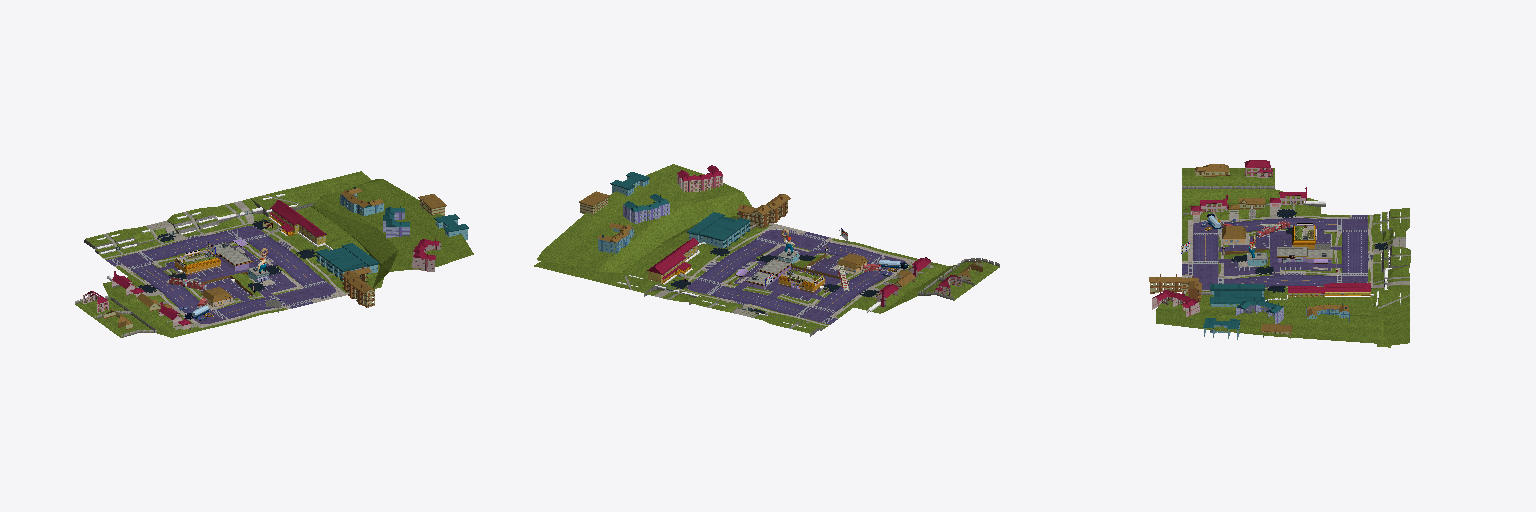
The picture shows the model from 3 angles: view 1: azimuth 30°, elevation 25°; view 2: azimuth 150°, elevation 25°; view 3: azimuth 270°, elevation 25°; orthographic projection.
Parts seen in each view (by area): view 1: common_gens82Shape_036, z2_common_trackShape_003, z2_common_trackShape_008, z2_common_trackShape_001, common_gens82Shape_061, common_gens82Shape_016, z2_common_trackShape_011, common_gens82Shape_060, z2_common_trackShape_009, common_gens82Shape_055, common_gens82Shape_049, common_gens82Shape_052 (+5 smaller); view 2: common_gens82Shape_036, z2_common_trackShape_003, z2_common_trackShape_008, z2_common_trackShape_001, common_gens82Shape_016, common_gens82Shape_061, z2_common_trackShape_011, common_gens82Shape_060, common_gens82Shape_049, common_gens82Shape_055, common_gens82Shape_052, z2_common_trackShape_007 (+3 smaller); view 3: common_gens82Shape_036, z2_common_trackShape_003, z2_common_trackShape_008, z2_common_trackShape_001, common_gens82Shape_016, common_gens82Shape_060, common_gens82Shape_061, z2_common_trackShape_011, z2_common_trackShape_009, common_gens82Shape_052, common_gens82Shape_055, common_gens82Shape_022 (+2 smaller).
Boxes of the visible parts, <box> form: common_gens82Shape_036: <box>75,171,473,337</box>; z2_common_trackShape_003: <box>99,206,383,337</box>; z2_common_trackShape_008: <box>131,231,324,318</box>; z2_common_trackShape_001: <box>115,226,335,323</box>; common_gens82Shape_061: <box>316,187,468,280</box>; common_gens82Shape_016: <box>106,188,446,327</box>; z2_common_trackShape_011: <box>103,222,348,327</box>; common_gens82Shape_060: <box>85,200,438,325</box>; z2_common_trackShape_009: <box>165,256,284,298</box>; common_gens82Shape_055: <box>104,200,444,329</box>; common_gens82Shape_049: <box>317,193,467,280</box>; common_gens82Shape_052: <box>83,242,440,329</box>; common_gens82Shape_036: <box>534,164,999,333</box>; z2_common_trackShape_003: <box>621,219,960,328</box>; z2_common_trackShape_008: <box>699,232,892,315</box>; z2_common_trackShape_001: <box>687,229,905,322</box>; common_gens82Shape_016: <box>579,191,982,292</box>; common_gens82Shape_061: <box>602,172,750,248</box>; z2_common_trackShape_011: <box>680,223,914,325</box>; common_gens82Shape_060: <box>647,165,960,297</box>; common_gens82Shape_049: <box>598,177,749,253</box>; common_gens82Shape_055: <box>580,197,982,289</box>; common_gens82Shape_052: <box>677,174,961,304</box>; z2_common_trackShape_007: <box>697,229,893,323</box>; common_gens82Shape_036: <box>1156,168,1410,347</box>; z2_common_trackShape_003: <box>1182,189,1383,315</box>; z2_common_trackShape_008: <box>1182,218,1367,286</box>; z2_common_trackShape_001: <box>1193,219,1367,289</box>; common_gens82Shape_016: <box>1149,164,1349,332</box>; common_gens82Shape_060: <box>1153,160,1370,307</box>; common_gens82Shape_061: <box>1203,284,1346,329</box>; z2_common_trackShape_011: <box>1182,209,1372,290</box>; z2_common_trackShape_009: <box>1229,233,1330,272</box>; common_gens82Shape_052: <box>1152,162,1305,316</box>; common_gens82Shape_055: <box>1150,169,1290,338</box>; common_gens82Shape_022: <box>1181,204,1387,289</box>.
Size of the model in its own units: 330 by 31.31 by 203.
70 materials, 68 textured.